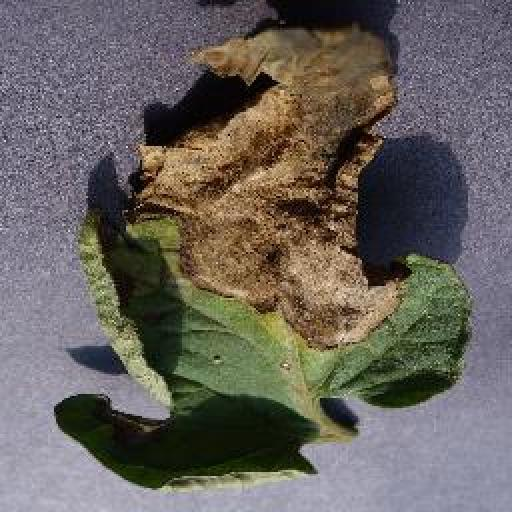disease_tomato: (54, 21, 474, 499)
